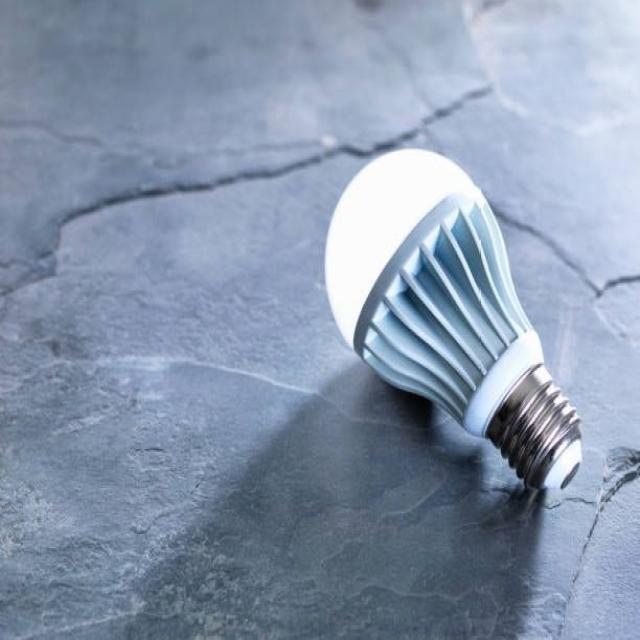electronic: (323, 145, 583, 492)
